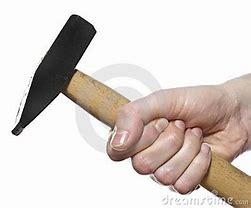hammer: (9, 11, 250, 207)
